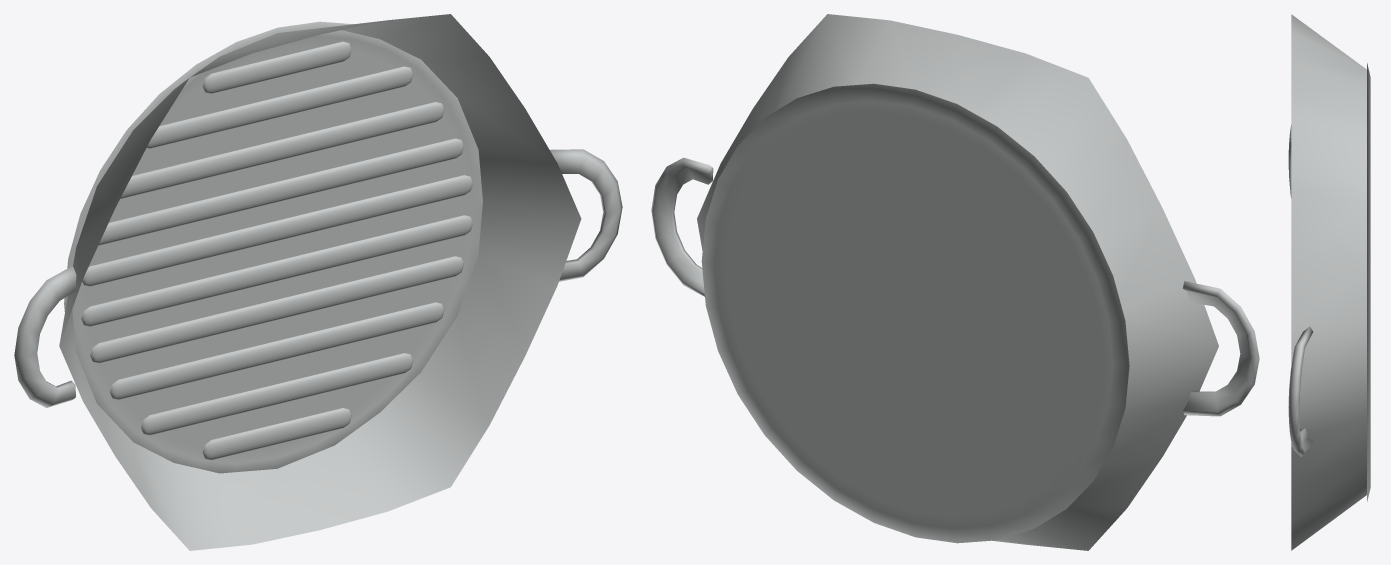
Rendered from MeshPan_12_0_GeomSubset_0.obj.
3 views of the same model, side by side, from view 1: azimuth 30°, elevation 25°; view 2: azimuth 150°, elevation 25°; view 3: azimuth 270°, elevation 25° (orthographic). The views are drawn at different scales.
Parts seen in each view (by area): view 1: MeshPan_12_0_GeomSubset_0; view 2: MeshPan_12_0_GeomSubset_0; view 3: MeshPan_12_0_GeomSubset_0.
Boxes of the visible parts, x1,y1,x2,y2 form: MeshPan_12_0_GeomSubset_0: (14,14,622,550); MeshPan_12_0_GeomSubset_0: (651,14,1259,550); MeshPan_12_0_GeomSubset_0: (1288,14,1370,550).
Bounding box in the file's own units: 0.3063 × 0.2384 × 0.0429.
